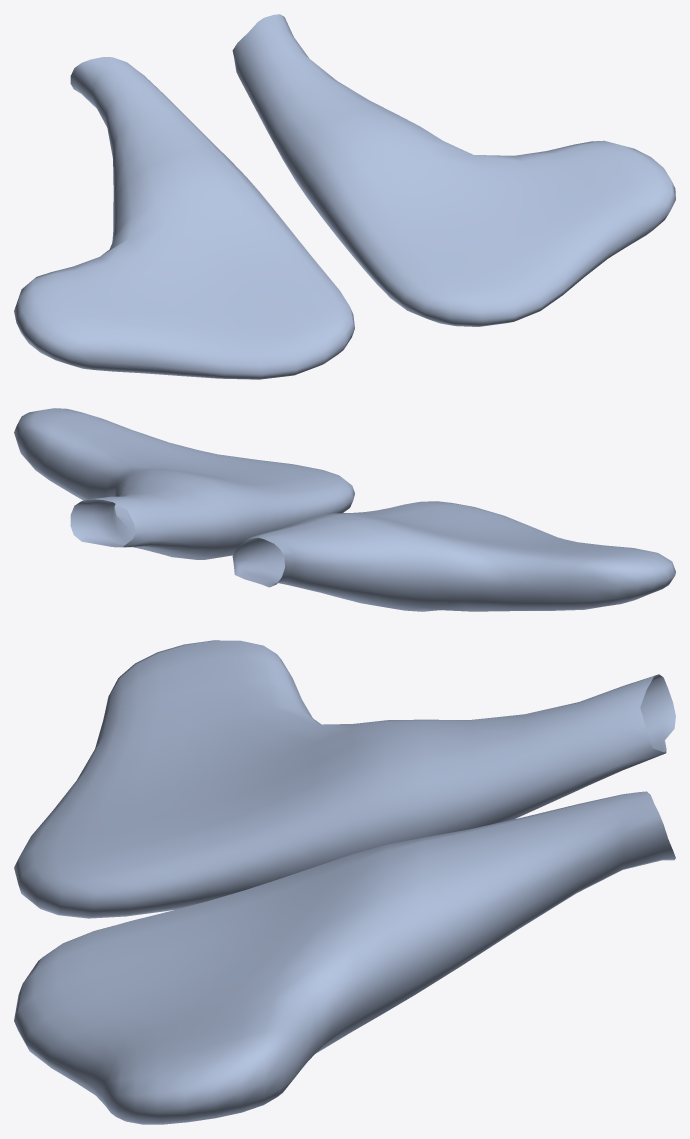
3 views of the same model, one above another, from view 1: azimuth 30°, elevation 25°; view 2: azimuth 150°, elevation 25°; view 3: azimuth 270°, elevation 25° (orthographic). The views are drawn at different scales.
Visible parts, largest first — view 1: 额窦; view 2: 额窦; view 3: 额窦.
Part boxes in pixels (x1=…): 额窦: x1=14, y1=14, x2=675, y2=379; 额窦: x1=14, y1=408, x2=675, y2=611; 额窦: x1=14, y1=640, x2=675, y2=1124.
Size of the model in its own units: 0.0742 by 0.0171 by 0.046.
